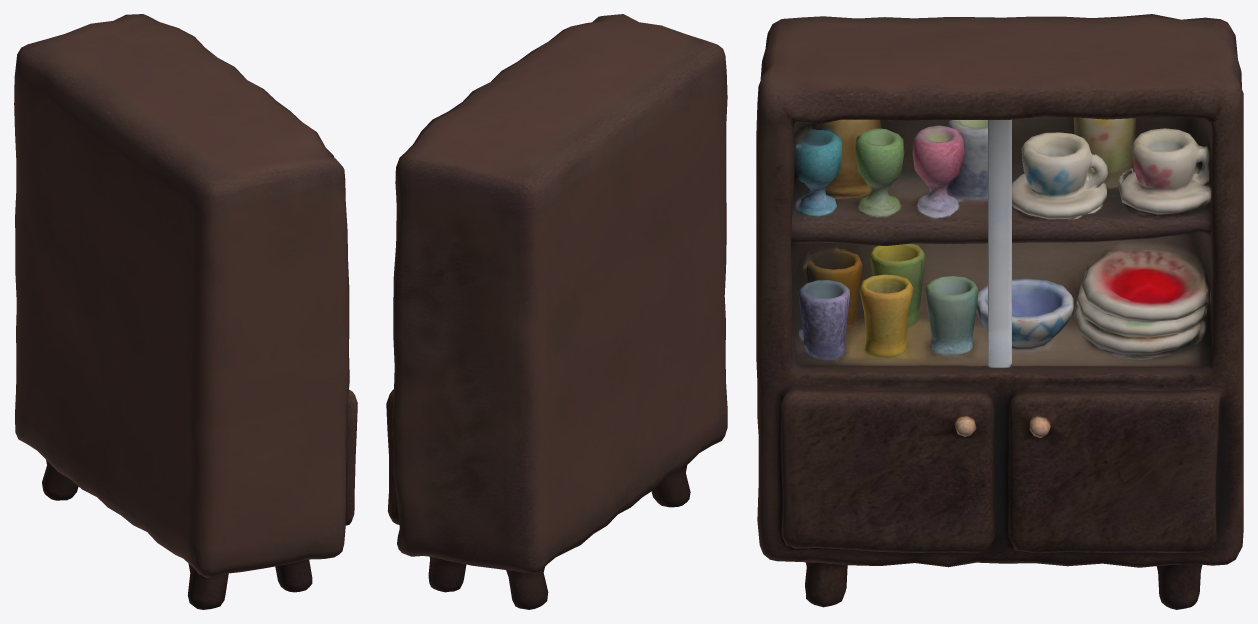
File: sideboard.glb
3 renders of one model, left to right at view 1: azimuth 30°, elevation 25°; view 2: azimuth 150°, elevation 25°; view 3: azimuth 270°, elevation 25°, orthographic. The views are drawn at different scales.
Visible parts, largest first — view 1: tripo_node_15165909-6264-4f3d-b200-62cd2; view 2: tripo_node_15165909-6264-4f3d-b200-62cd2; view 3: tripo_node_15165909-6264-4f3d-b200-62cd2.
Part boxes in pixels (bbox=[...]): tripo_node_15165909-6264-4f3d-b200-62cd2: bbox=[14, 14, 357, 609]; tripo_node_15165909-6264-4f3d-b200-62cd2: bbox=[386, 14, 727, 609]; tripo_node_15165909-6264-4f3d-b200-62cd2: bbox=[756, 14, 1243, 609].
Bounding box in the file's own units: 0.4043 × 0.998 × 0.8223.
1 material, 1 textured.
